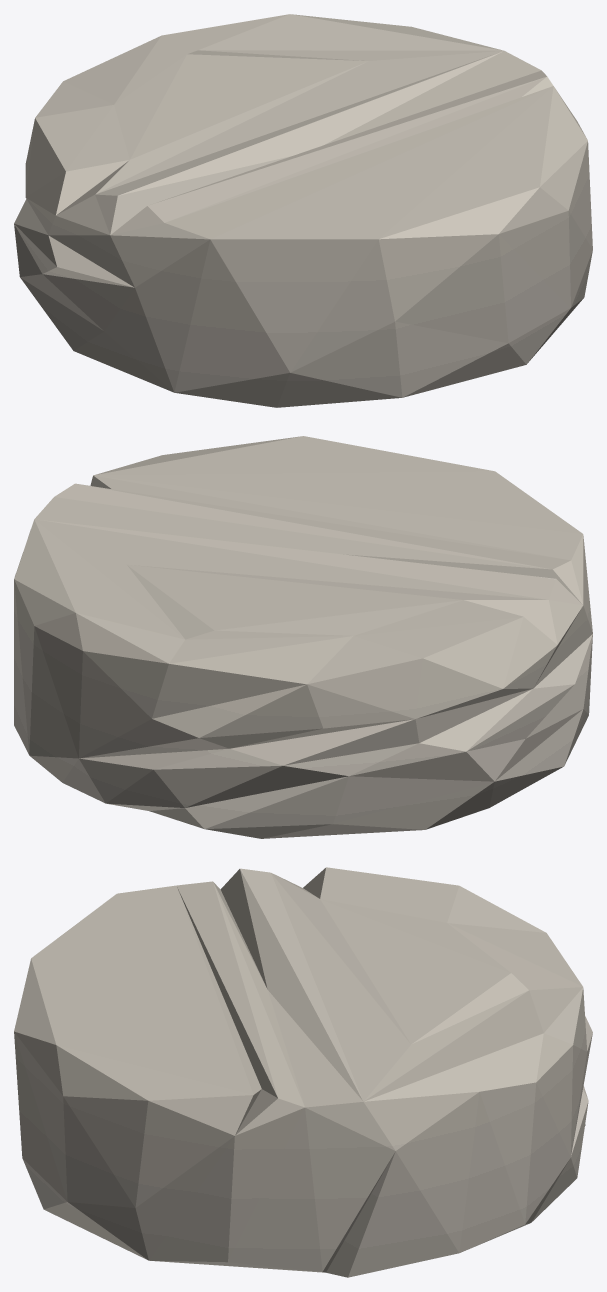
The model's file is YN_CircleStone2.fbx.
The picture shows the model from 3 angles, top to bottom: view 1: azimuth 30°, elevation 25°; view 2: azimuth 150°, elevation 25°; view 3: azimuth 270°, elevation 25°; orthographic projection. The views are drawn at different scales.
Visible parts, largest first — view 1: CircleStone2; view 2: CircleStone2; view 3: CircleStone2.
Part boxes in pixels (<box>): CircleStone2: <box>14,14,592,407</box>; CircleStone2: <box>14,436,592,838</box>; CircleStone2: <box>14,867,592,1277</box>.
Bounding box in the file's own units: 2.05 × 0.701 × 1.99.
